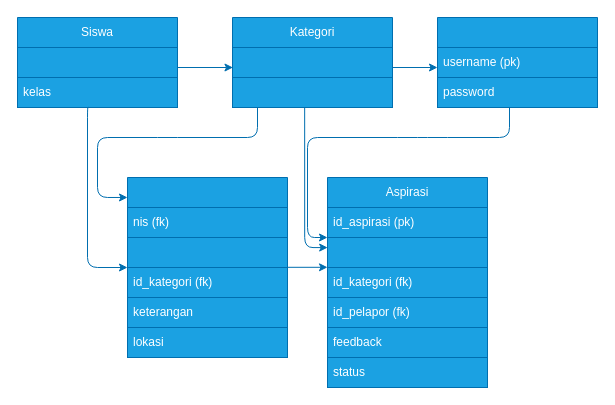
Image size: 615x405. Some labels were removed from this diagram. The box of each missing label's shape, as (x1, y1, x2, y2) in pixels:
Admin: (436, 16, 598, 108)
id_kategori (pk): (232, 46, 392, 78)
id_pelapor (pk): (126, 236, 288, 268)
Input Aspirasi: (126, 176, 288, 358)
ket_kategori: (232, 76, 392, 108)
nis (pk): (16, 46, 178, 78)
username (fk): (326, 236, 488, 268)
